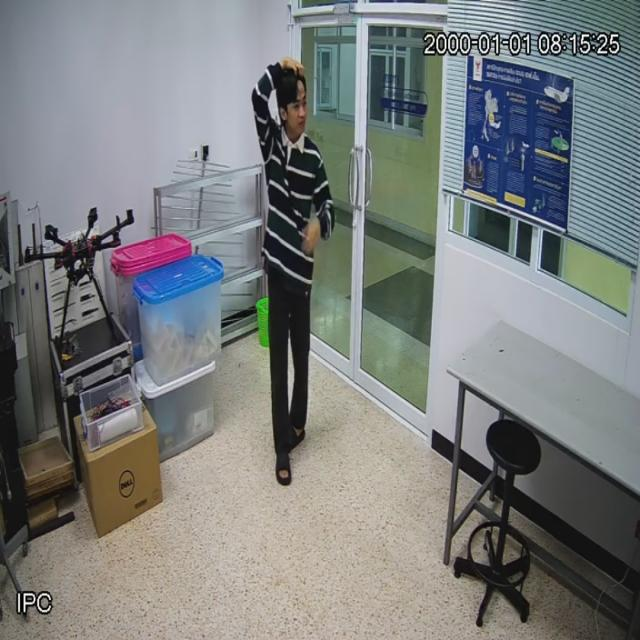normal: (252, 59, 335, 484)
